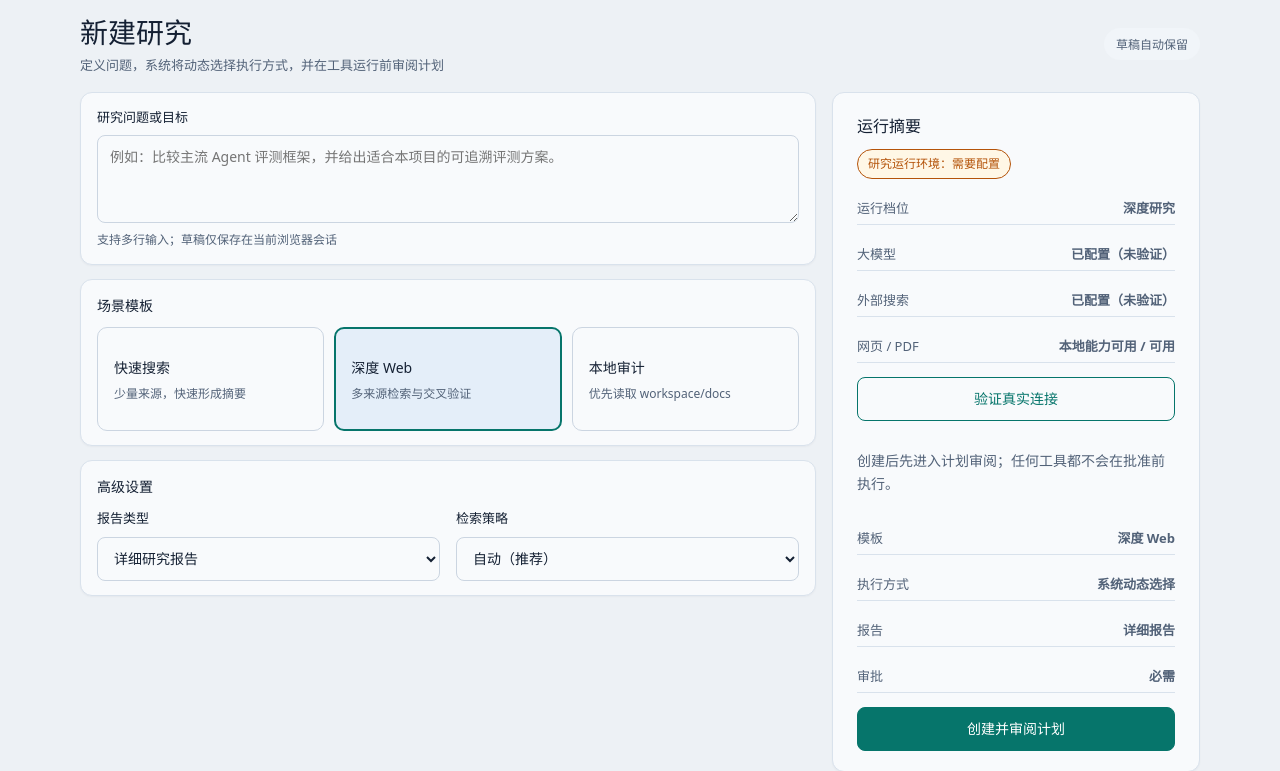
Scenario: shows failed real probes as verification failures instead of unverified configuration
Click the button "验证真实连接".
click(1016, 399)  # box [857,377,1175,421]
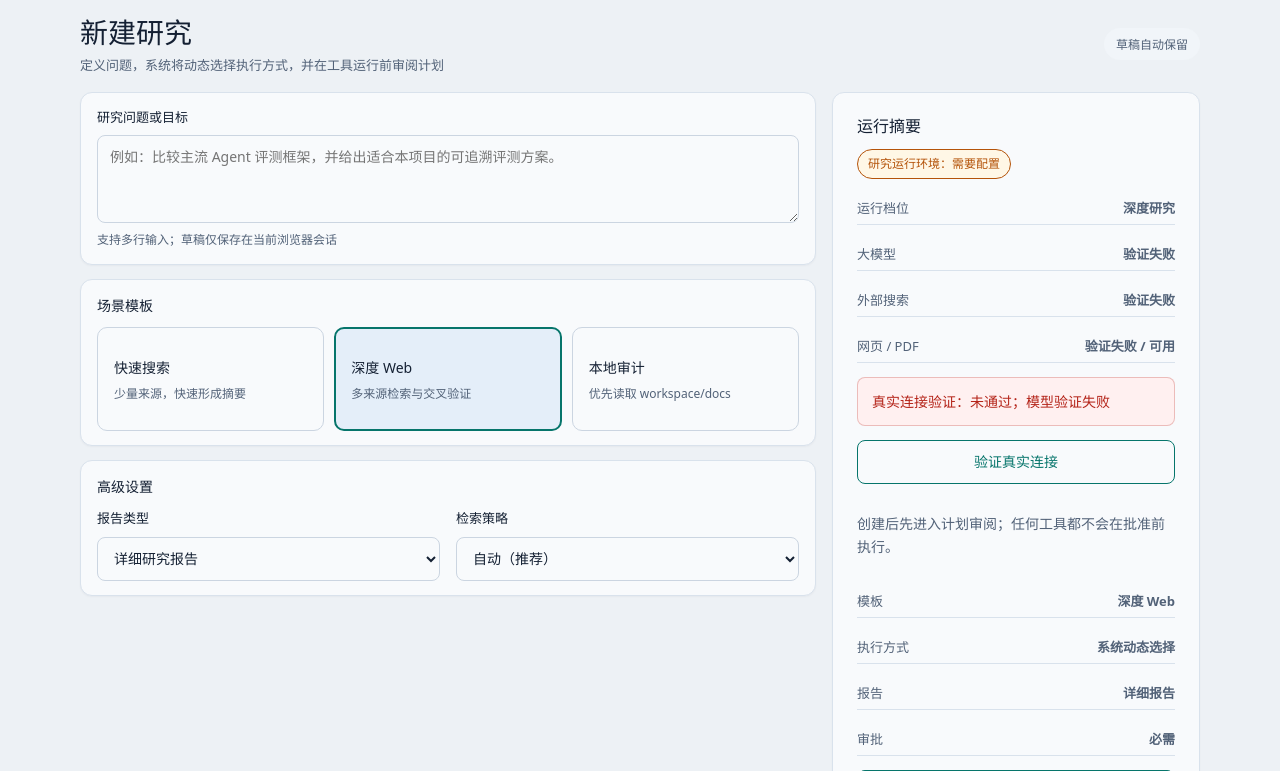
Result: the text "真实连接验证：未通过；模型验证失败" is shown at [857,377,1175,426]
Result: the text "验证失败 / 可用" is shown at [1085,336,1175,357]
Result: the text "已配置（未验证）" is gone
